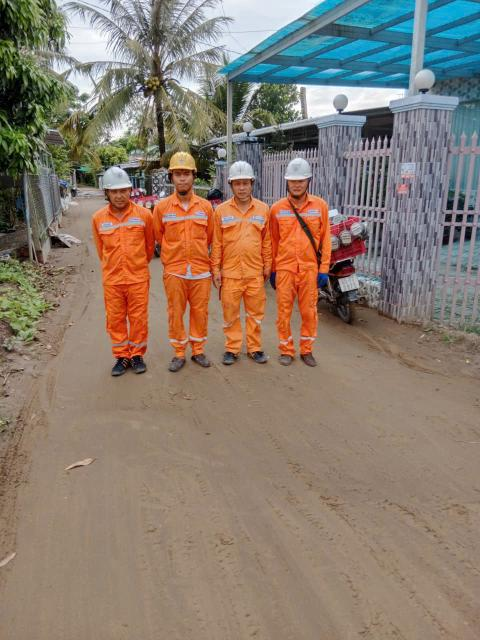gloves: (316, 271, 329, 291), (270, 270, 277, 291)
helmet: (95, 167, 137, 192), (281, 154, 315, 181), (165, 151, 199, 172), (226, 160, 257, 181)
shoes: (106, 354, 130, 375), (129, 352, 150, 375), (191, 351, 211, 374), (297, 352, 321, 369), (168, 353, 186, 375), (221, 347, 239, 368), (249, 350, 269, 364), (276, 353, 295, 367)
